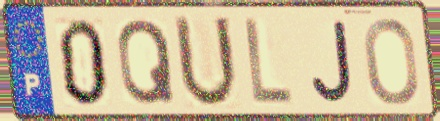0: (56, 16, 111, 109)
J: (309, 18, 357, 105)
L: (242, 15, 295, 109)
O: (361, 15, 422, 108)
Q: (116, 17, 179, 109)
U: (171, 12, 241, 112)
